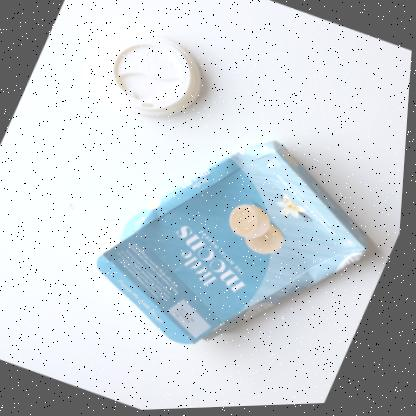Paper: (100, 142, 371, 345)
Plastic: (96, 32, 201, 118)
